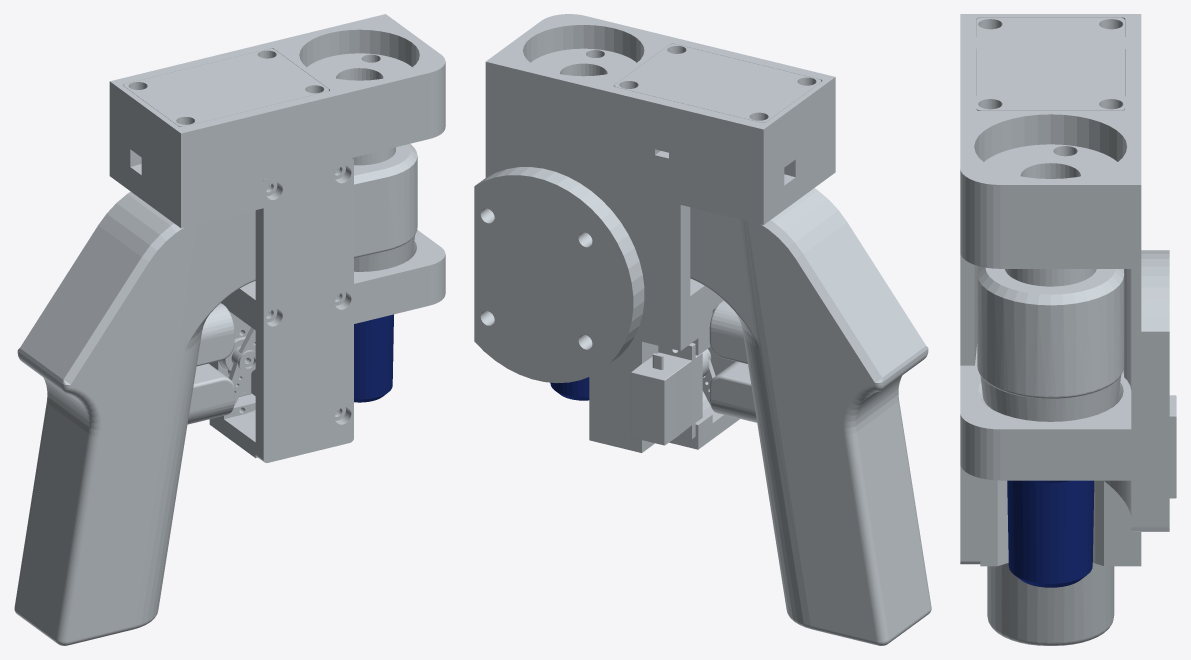
Rendered from aspirator_user_20261106.glb.
3 renders of one model, left to right at view 1: azimuth 30°, elevation 25°; view 2: azimuth 150°, elevation 25°; view 3: azimuth 270°, elevation 25°, orthographic. The views are drawn at different scales.
Visible parts, largest first — view 1: geometry_0; view 2: geometry_0; view 3: geometry_0.
Part boxes in pixels (x1,y1,x2,y2): geometry_0: (14, 14, 445, 645); geometry_0: (474, 14, 931, 645); geometry_0: (960, 14, 1176, 645).
Bounding box in the file's own units: 0.1404 × 0.173 × 0.0538.
